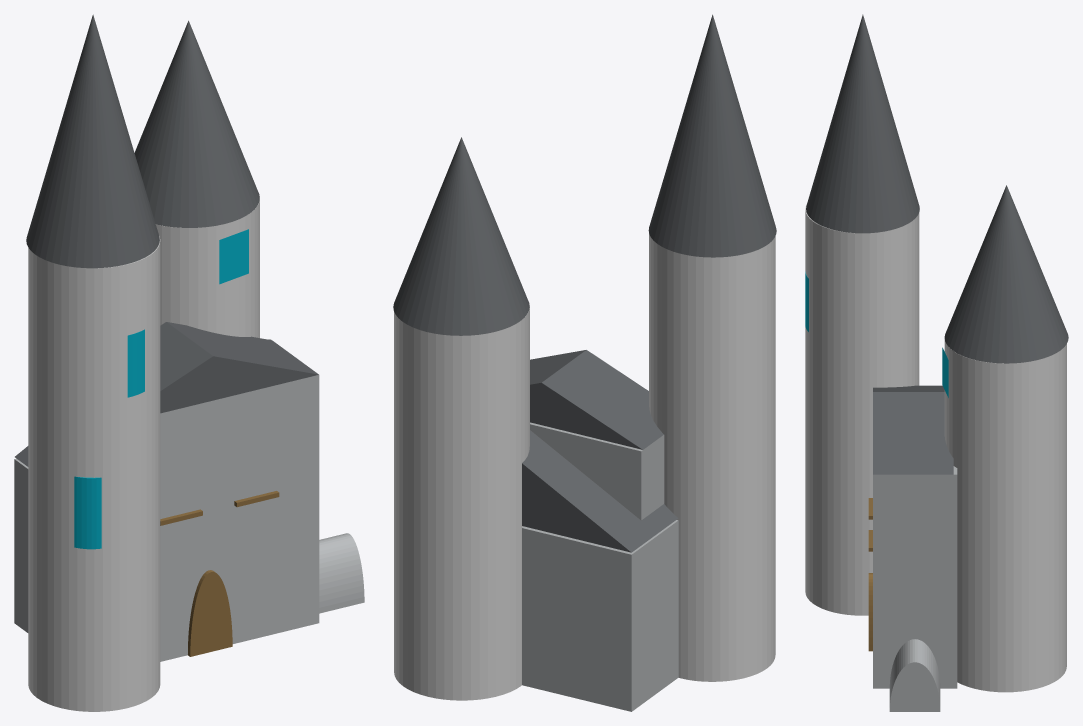
Rendered from Shiny Kieran.glb.
3 renders of one model, left to right at view 1: azimuth 30°, elevation 25°; view 2: azimuth 150°, elevation 25°; view 3: azimuth 270°, elevation 25°, orthographic. The views are drawn at different scales.
Parts seen in each view (by area): view 1: Mesh_Mesh_head_geo.001_lambert2SG.001; view 2: Mesh_Mesh_head_geo.001_lambert2SG.001; view 3: Mesh_Mesh_head_geo.001_lambert2SG.001.
Boxes of the visible parts, x1,y1,x2,y2 form: Mesh_Mesh_head_geo.001_lambert2SG.001: (14,14,364,711); Mesh_Mesh_head_geo.001_lambert2SG.001: (393,14,776,711); Mesh_Mesh_head_geo.001_lambert2SG.001: (805,14,1068,711).
Bounding box in the file's own units: 0.0814 × 0.151 × 0.0624.
